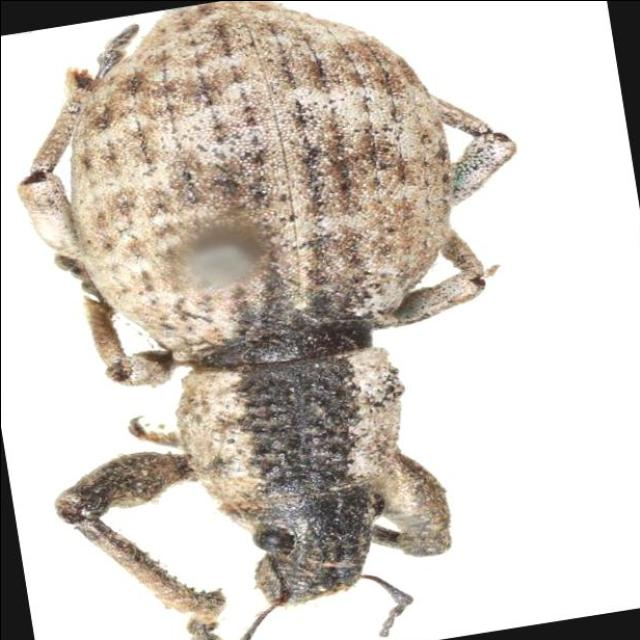ricebug: (18, 0, 514, 605)
